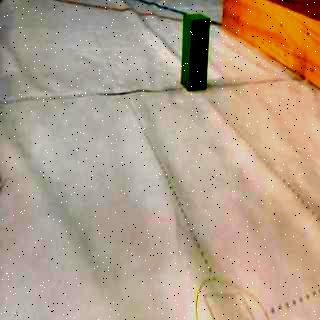greenbox: (182, 12, 210, 90)
